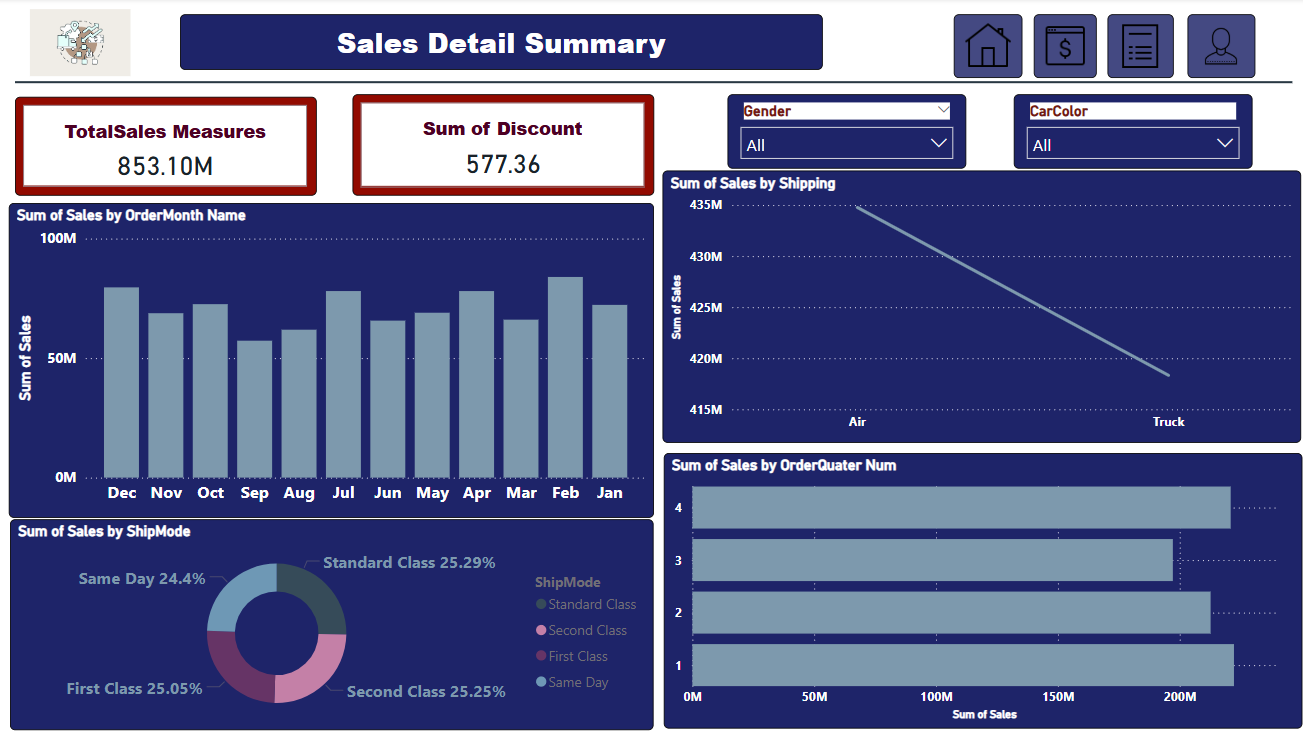

This screenshot's page, from the dashboard's own definition file:
{"tool":"powerbi","page":{"name":"Sales","canvas":[1280,720],"ordinal":2},"visuals":[{"type":"textbox","box":[176.1,15.7,628.6,54.3],"z":0},{"type":"shape","box":[14.5,68.8,1249.9,27.7],"z":1000},{"type":"cardVisual","fields":{"Data":["DAX Measures.TotalSales Measures"]},"box":[15.1,96.6,295,96.6],"z":2000},{"type":"cardVisual","fields":{"Data":["Sum(cars_data.Discount)"]},"box":[345.2,94.1,295,99.2],"z":3000},{"type":"columnChart","fields":{"Y":["Sum(cars_data.Sales)"],"Category":["DateMaster.OrderMonth Name"]},"box":[8.4,200.3,631,307.6],"z":4000},{"type":"donutChart","fields":{"Y":["Sum(cars_data.Sales)"],"Category":["cars_data.ShipMode"]},"box":[9.7,510.3,629.8,206.3],"z":5000},{"type":"lineChart","fields":{"Category":["cars_data.Shipping"],"Y":["Sum(cars_data.Sales)"]},"box":[647.9,168.9,624.9,266.6],"z":6000},{"type":"barChart","fields":{"Y":["Sum(cars_data.Sales)"],"Category":["DateMaster.OrderQuater Num"]},"box":[648.9,445.6,625.1,269.9],"z":7000},{"type":"slicer","fields":{"Values":["cars_data.Gender"]},"box":[711.7,94.1,233.5,72.8],"z":8000},{"type":"slicer","fields":{"Values":["cars_data.CarColor"]},"box":[991.6,94.1,233.5,72.8],"z":9000},{"type":"image","box":[24.1,3.6,108.6,79.6],"z":10000},{"type":"image","box":[1011,15.7,61.5,62.7],"z":11000},{"type":"image","box":[932.6,15.7,67.6,62.7],"z":12000},{"type":"image","box":[1083.4,15.7,65.1,62.7],"z":13000},{"type":"image","box":[1161.8,15.7,66.4,62.7],"z":14000}]}

Visuals, with their boxes in screenshot pixels (x1, y1, x2, y2), scaled from the page's 1280x720 canvas onto the 1303x733 screenshot:
textbox: bbox=(179, 16, 819, 71)
shape: bbox=(15, 70, 1287, 98)
cardVisual - DAX Measures.TotalSales Measures: bbox=(15, 98, 316, 197)
cardVisual - Sum(cars_data.Discount): bbox=(351, 96, 652, 197)
columnChart - Sum(cars_data.Sales) x DateMaster.OrderMonth Name: bbox=(9, 204, 651, 517)
donutChart - Sum(cars_data.Sales) x cars_data.ShipMode: bbox=(10, 520, 651, 730)
lineChart - cars_data.Shipping x Sum(cars_data.Sales): bbox=(660, 172, 1296, 443)
barChart - Sum(cars_data.Sales) x DateMaster.OrderQuater Num: bbox=(661, 454, 1297, 728)
slicer - cars_data.Gender: bbox=(724, 96, 962, 170)
slicer - cars_data.CarColor: bbox=(1009, 96, 1247, 170)
image: bbox=(25, 4, 135, 85)
image: bbox=(1029, 16, 1092, 80)
image: bbox=(949, 16, 1018, 80)
image: bbox=(1103, 16, 1169, 80)
image: bbox=(1183, 16, 1250, 80)
